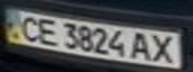2: (90, 25, 112, 56)
3: (57, 20, 81, 51)
4: (109, 28, 130, 58)
8: (75, 24, 96, 53)
A: (127, 29, 157, 61)
C: (12, 12, 45, 43)
E: (33, 16, 63, 46)
X: (148, 33, 181, 65)
